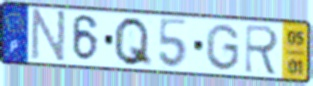5: (157, 16, 191, 71)
6: (70, 13, 101, 64)
G: (204, 22, 241, 73)
N: (29, 7, 69, 66)
Q: (112, 15, 154, 69)
R: (243, 23, 282, 78)
